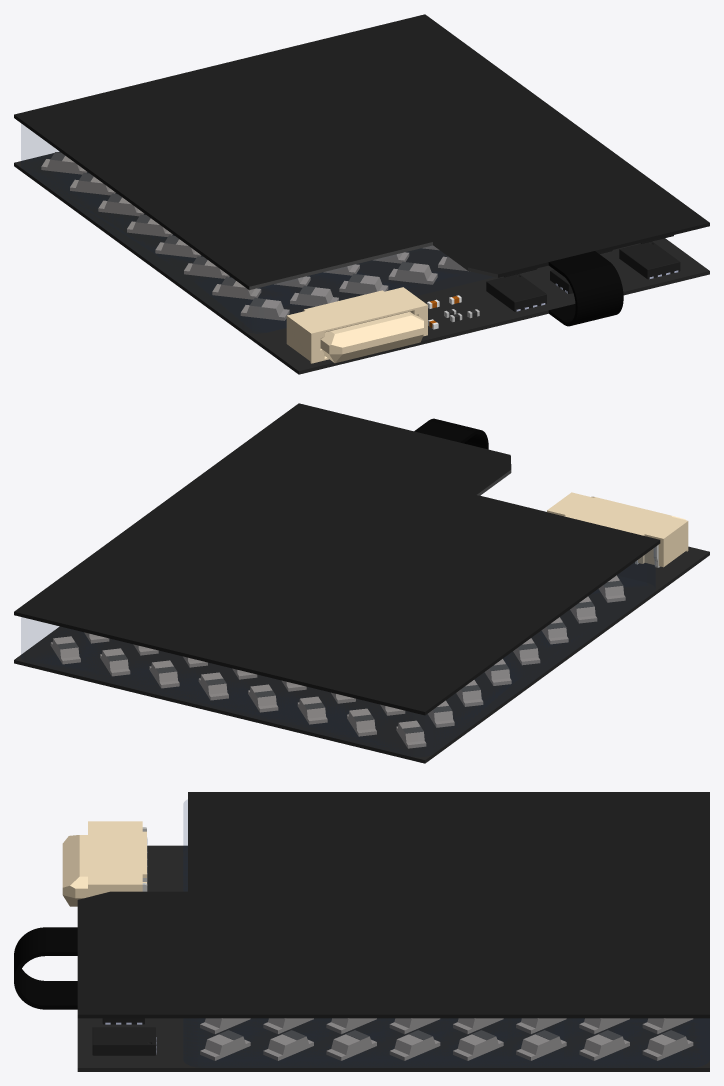
3 views of the same model, one above another, from view 1: azimuth 30°, elevation 25°; view 2: azimuth 150°, elevation 25°; view 3: azimuth 270°, elevation 25° (orthographic). The views are drawn at different scales.
Parts seen in each view (by area): view 1: node_57ac1d9f_aaa5_4681_a543_e734cadd1686_mesh7, node_57ac1d9f_aaa5_4681_a543_e734cadd1686_mesh13, node_57ac1d9f_aaa5_4681_a543_e734cadd1686_mesh14, node_57ac1d9f_aaa5_4681_a543_e734cadd1686_mesh0, node_57ac1d9f_aaa5_4681_a543_e734cadd1686_mesh11, node_57ac1d9f_aaa5_4681_a543_e734cadd1686_mesh12, node_57ac1d9f_aaa5_4681_a543_e734cadd1686_mesh8, node_57ac1d9f_aaa5_4681_a543_e734cadd1686_mesh4, node_57ac1d9f_aaa5_4681_a543_e734cadd1686_mesh3; view 2: node_57ac1d9f_aaa5_4681_a543_e734cadd1686_mesh7, node_57ac1d9f_aaa5_4681_a543_e734cadd1686_mesh13, node_57ac1d9f_aaa5_4681_a543_e734cadd1686_mesh0, node_57ac1d9f_aaa5_4681_a543_e734cadd1686_mesh11, node_57ac1d9f_aaa5_4681_a543_e734cadd1686_mesh14, node_57ac1d9f_aaa5_4681_a543_e734cadd1686_mesh4, node_57ac1d9f_aaa5_4681_a543_e734cadd1686_mesh12, node_57ac1d9f_aaa5_4681_a543_e734cadd1686_mesh3; view 3: node_57ac1d9f_aaa5_4681_a543_e734cadd1686_mesh7, node_57ac1d9f_aaa5_4681_a543_e734cadd1686_mesh13, node_57ac1d9f_aaa5_4681_a543_e734cadd1686_mesh0, node_57ac1d9f_aaa5_4681_a543_e734cadd1686_mesh11, node_57ac1d9f_aaa5_4681_a543_e734cadd1686_mesh14, node_57ac1d9f_aaa5_4681_a543_e734cadd1686_mesh12, node_57ac1d9f_aaa5_4681_a543_e734cadd1686_mesh8, node_57ac1d9f_aaa5_4681_a543_e734cadd1686_mesh4, node_57ac1d9f_aaa5_4681_a543_e734cadd1686_mesh3.
Boxes of the visible parts, x1,y1,x2,y2 form: node_57ac1d9f_aaa5_4681_a543_e734cadd1686_mesh7: (14, 14, 709, 289); node_57ac1d9f_aaa5_4681_a543_e734cadd1686_mesh13: (14, 151, 709, 374); node_57ac1d9f_aaa5_4681_a543_e734cadd1686_mesh14: (286, 287, 427, 363); node_57ac1d9f_aaa5_4681_a543_e734cadd1686_mesh0: (41, 156, 468, 320); node_57ac1d9f_aaa5_4681_a543_e734cadd1686_mesh11: (21, 124, 459, 332); node_57ac1d9f_aaa5_4681_a543_e734cadd1686_mesh12: (548, 251, 623, 326); node_57ac1d9f_aaa5_4681_a543_e734cadd1686_mesh8: (486, 235, 680, 311); node_57ac1d9f_aaa5_4681_a543_e734cadd1686_mesh4: (50, 152, 497, 306); node_57ac1d9f_aaa5_4681_a543_e734cadd1686_mesh3: (77, 164, 256, 299); node_57ac1d9f_aaa5_4681_a543_e734cadd1686_mesh7: (14, 403, 660, 715); node_57ac1d9f_aaa5_4681_a543_e734cadd1686_mesh13: (14, 496, 709, 763); node_57ac1d9f_aaa5_4681_a543_e734cadd1686_mesh0: (50, 575, 625, 748); node_57ac1d9f_aaa5_4681_a543_e734cadd1686_mesh11: (21, 548, 654, 749); node_57ac1d9f_aaa5_4681_a543_e734cadd1686_mesh14: (547, 492, 688, 567); node_57ac1d9f_aaa5_4681_a543_e734cadd1686_mesh4: (57, 470, 622, 733); node_57ac1d9f_aaa5_4681_a543_e734cadd1686_mesh12: (414, 418, 488, 449); node_57ac1d9f_aaa5_4681_a543_e734cadd1686_mesh3: (62, 618, 597, 732); node_57ac1d9f_aaa5_4681_a543_e734cadd1686_mesh7: (77, 792, 709, 1018); node_57ac1d9f_aaa5_4681_a543_e734cadd1686_mesh13: (77, 845, 709, 1071); node_57ac1d9f_aaa5_4681_a543_e734cadd1686_mesh0: (200, 1018, 693, 1060); node_57ac1d9f_aaa5_4681_a543_e734cadd1686_mesh11: (184, 800, 709, 1067); node_57ac1d9f_aaa5_4681_a543_e734cadd1686_mesh14: (62, 821, 146, 906); node_57ac1d9f_aaa5_4681_a543_e734cadd1686_mesh12: (14, 927, 77, 1009); node_57ac1d9f_aaa5_4681_a543_e734cadd1686_mesh8: (92, 1018, 155, 1055); node_57ac1d9f_aaa5_4681_a543_e734cadd1686_mesh4: (219, 1030, 685, 1040); node_57ac1d9f_aaa5_4681_a543_e734cadd1686_mesh3: (244, 1018, 629, 1060).
Bounding box in the file's own units: 0.025 × 0.033 × 0.003.
